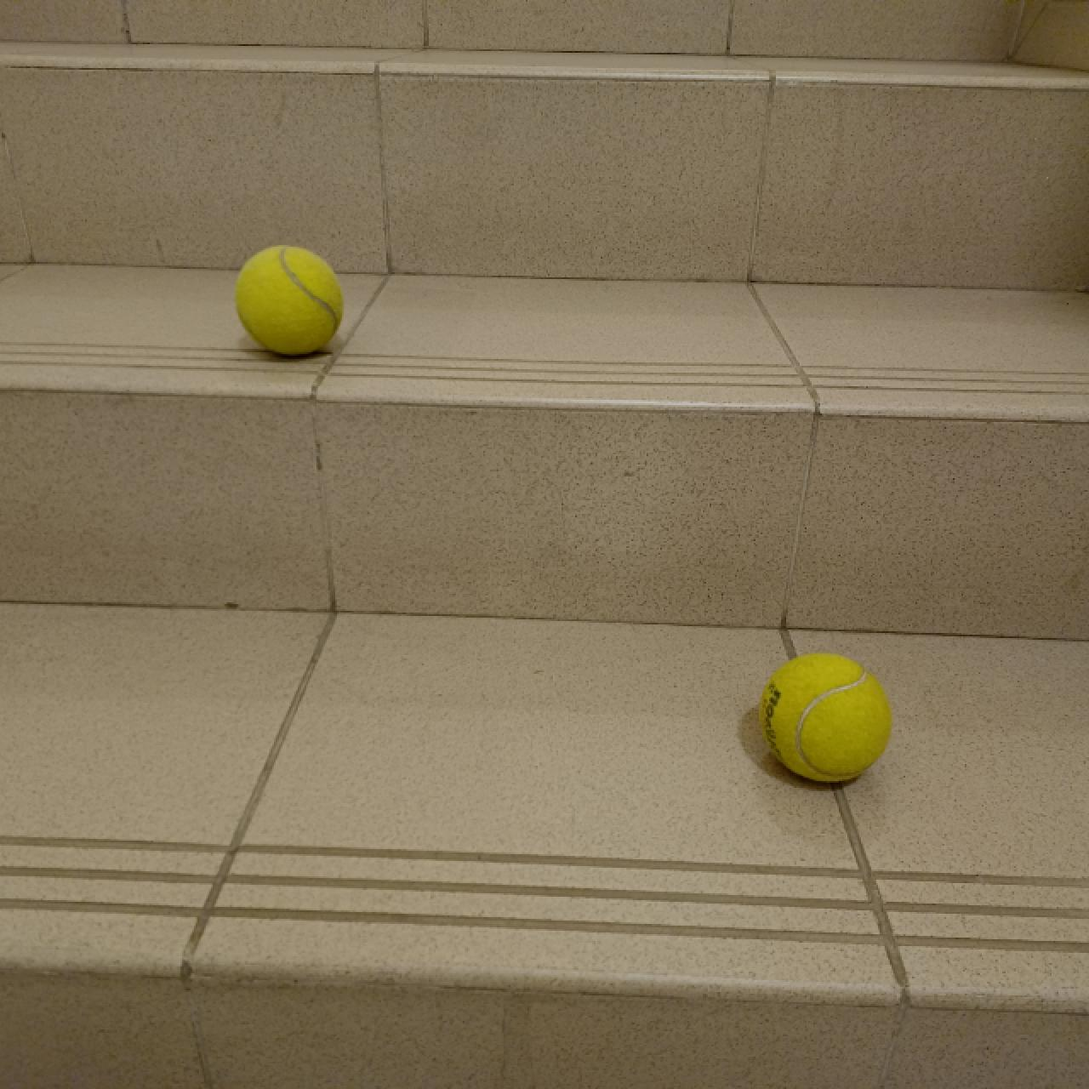tennis-ball: (760, 652, 886, 790), (231, 243, 344, 360)
